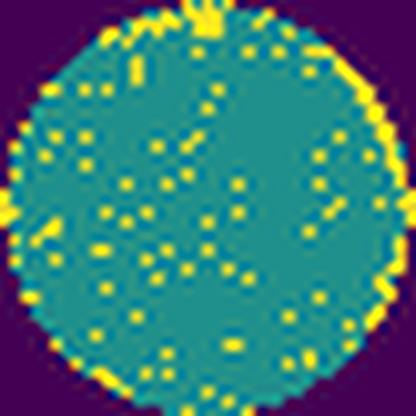Edge-Loc: (303, 38, 416, 189), (360, 235, 415, 337), (180, 0, 240, 42)
